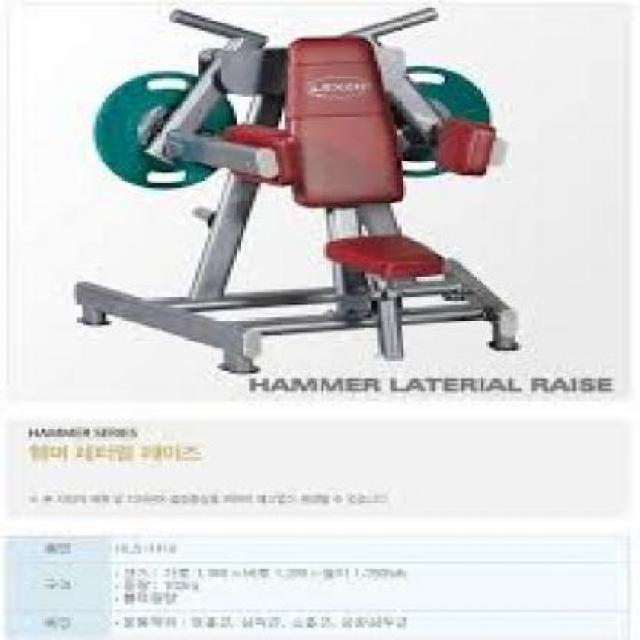lateral raises machine: (68, 8, 523, 374)
